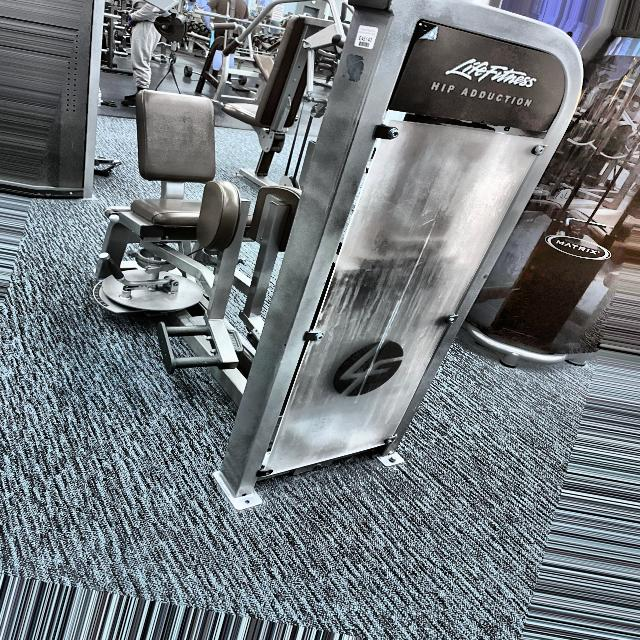hip_adduction_machine: (104, 68, 290, 392), (425, 73, 551, 136)
